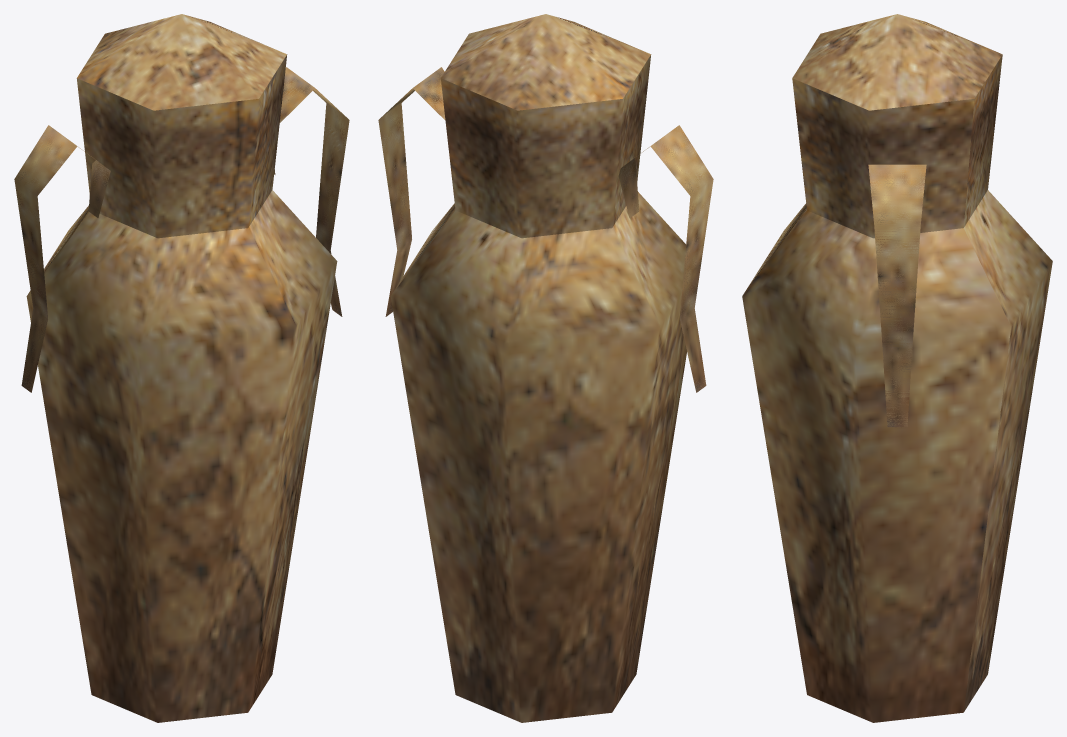
File: Jug1_LOD2.fbx
3 renders of one model, left to right at view 1: azimuth 30°, elevation 25°; view 2: azimuth 150°, elevation 25°; view 3: azimuth 270°, elevation 25°, orthographic.
Parts seen in each view (by area): view 1: polySurface269; view 2: polySurface269; view 3: polySurface269.
Boxes of the visible parts, x1,y1,x2,y2 form: polySurface269: (14, 14, 349, 722); polySurface269: (378, 14, 713, 722); polySurface269: (742, 14, 1052, 722).
Bounding box in the file's own units: 0.5513 × 1.14 × 0.4755.
